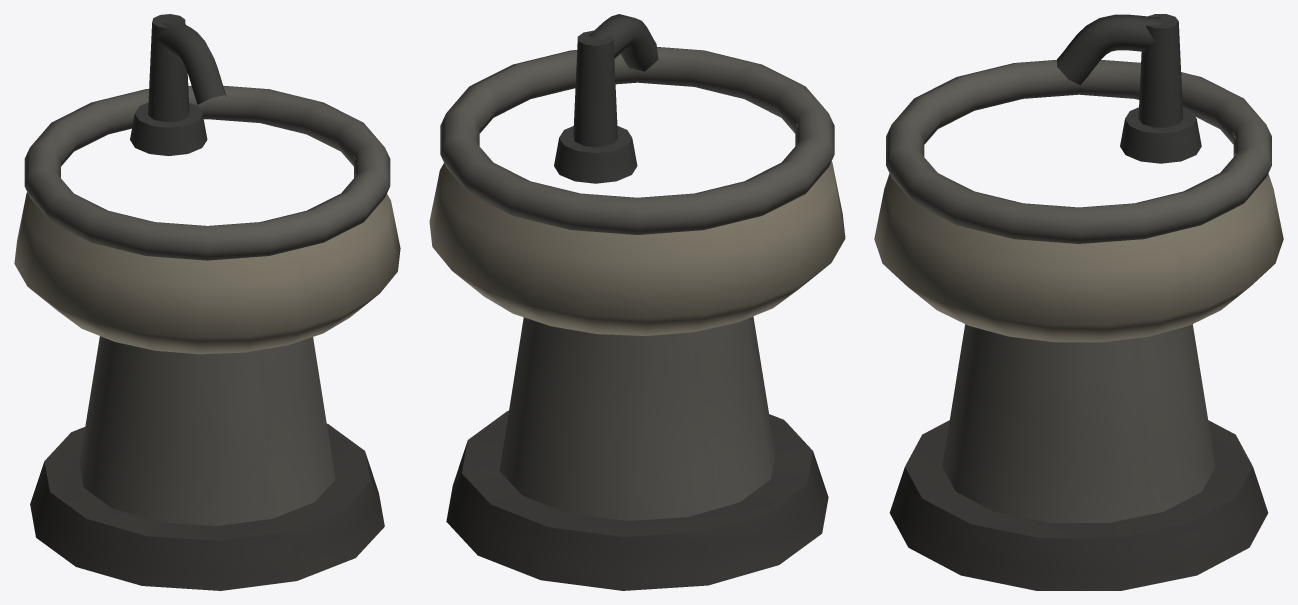
Rendered from sk-household-washbasin.glb.
3 views of the same model, side by side, from view 1: azimuth 30°, elevation 25°; view 2: azimuth 150°, elevation 25°; view 3: azimuth 270°, elevation 25° (orthographic). The views are drawn at different scales.
Parts seen in each view (by area): view 1: household:washbasin-static-stone, washbasin-basin, washbasin-foot, washbasin-faucet-static-metal; view 2: household:washbasin-static-stone, washbasin-basin, washbasin-foot, washbasin-faucet-static-metal; view 3: household:washbasin-static-stone, washbasin-basin, washbasin-foot, washbasin-faucet-static-metal.
Boxes of the visible parts, left/top/right/bottom form: household:washbasin-static-stone: left=24, top=85, right=390, bottom=525; washbasin-basin: left=14, top=155, right=400, bottom=354; washbasin-foot: left=30, top=423, right=384, bottom=590; washbasin-faucet-static-metal: left=130, top=14, right=226, bottom=155; household:washbasin-static-stone: left=440, top=47, right=834, bottom=520; washbasin-basin: left=429, top=119, right=845, bottom=335; washbasin-foot: left=446, top=410, right=828, bottom=590; washbasin-faucet-static-metal: left=554, top=14, right=658, bottom=183; household:washbasin-static-stone: left=886, top=60, right=1271, bottom=522; washbasin-basin: left=874, top=131, right=1283, bottom=342; washbasin-foot: left=889, top=420, right=1268, bottom=590; washbasin-faucet-static-metal: left=1057, top=14, right=1201, bottom=163.
Bounding box in the file's own units: 0.7919 × 1.07 × 0.8.
4 materials, 4 textured.
